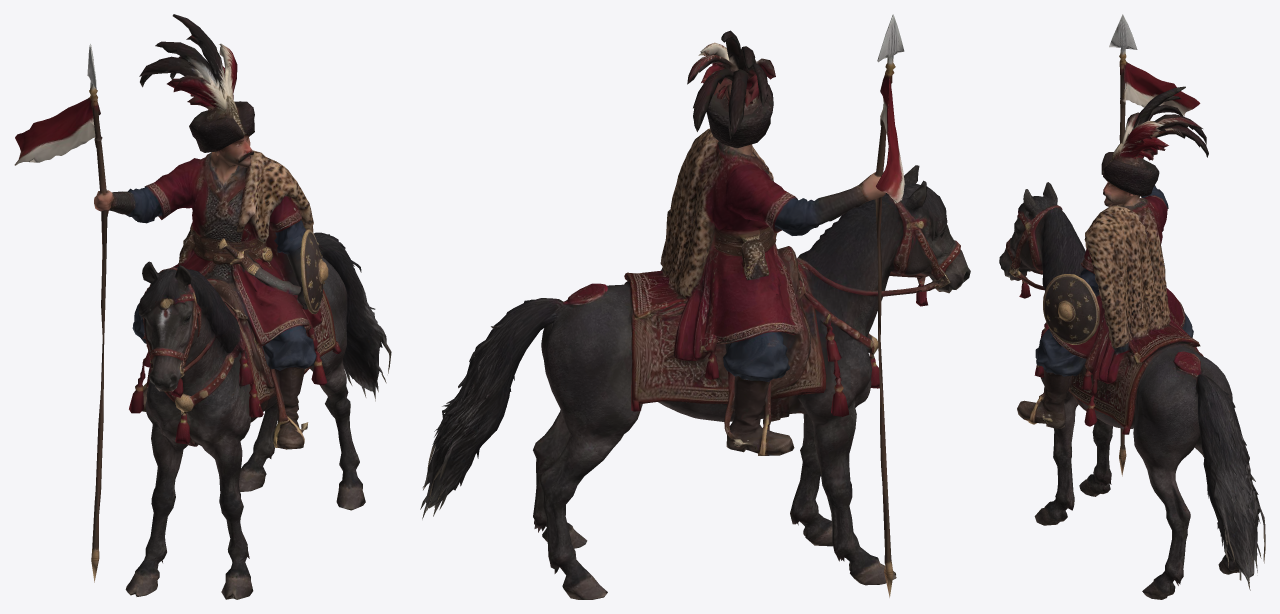
Rendered from deli-atli-1550-1600-tripo-v1.glb.
3 renders of one model, left to right at view 1: azimuth 30°, elevation 25°; view 2: azimuth 150°, elevation 25°; view 3: azimuth 270°, elevation 25°, orthographic. The views are drawn at different scales.
Parts seen in each view (by area): view 1: tripo_node_f43f5ad4-8161-47fb-a6fb-5ef2fe2a6bff; view 2: tripo_node_f43f5ad4-8161-47fb-a6fb-5ef2fe2a6bff; view 3: tripo_node_f43f5ad4-8161-47fb-a6fb-5ef2fe2a6bff.
Boxes of the visible parts, x1,y1,x2,y2 form: tripo_node_f43f5ad4-8161-47fb-a6fb-5ef2fe2a6bff: (14, 14, 391, 599); tripo_node_f43f5ad4-8161-47fb-a6fb-5ef2fe2a6bff: (420, 14, 970, 599); tripo_node_f43f5ad4-8161-47fb-a6fb-5ef2fe2a6bff: (999, 14, 1265, 599).
Bounding box in the file's own units: 0.7833 × 1 × 0.521.
Materials: 1 (1 with a texture image).
